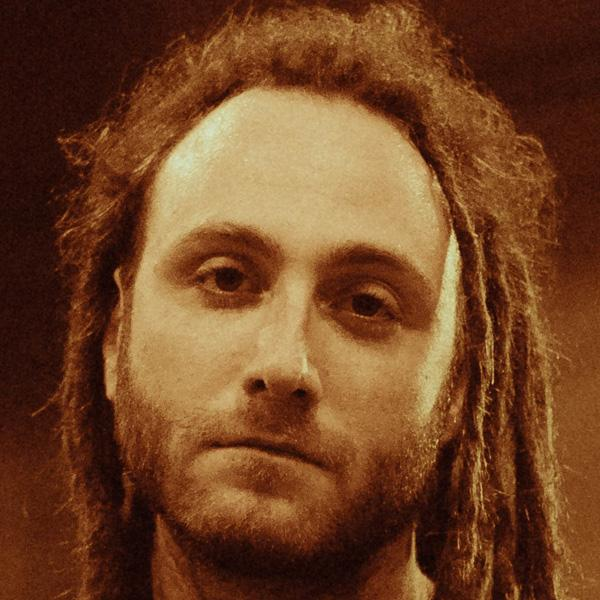Eyes: (182, 242, 268, 312), (329, 269, 410, 334)
